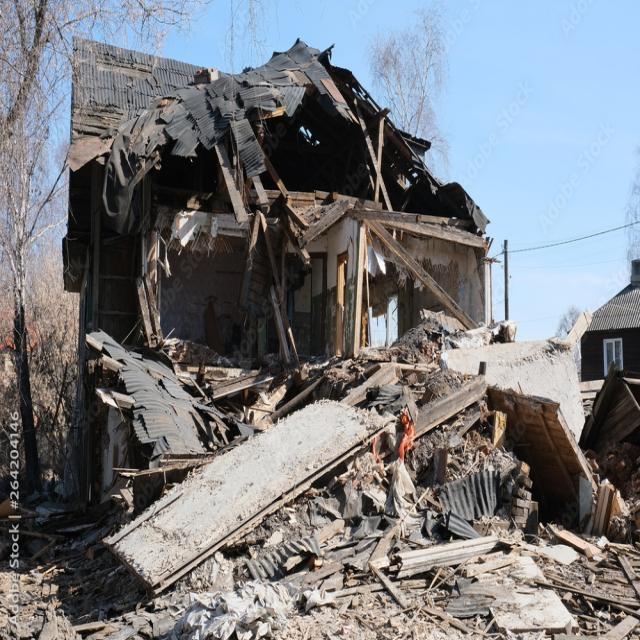Destroyed_building: (50, 17, 548, 640)
